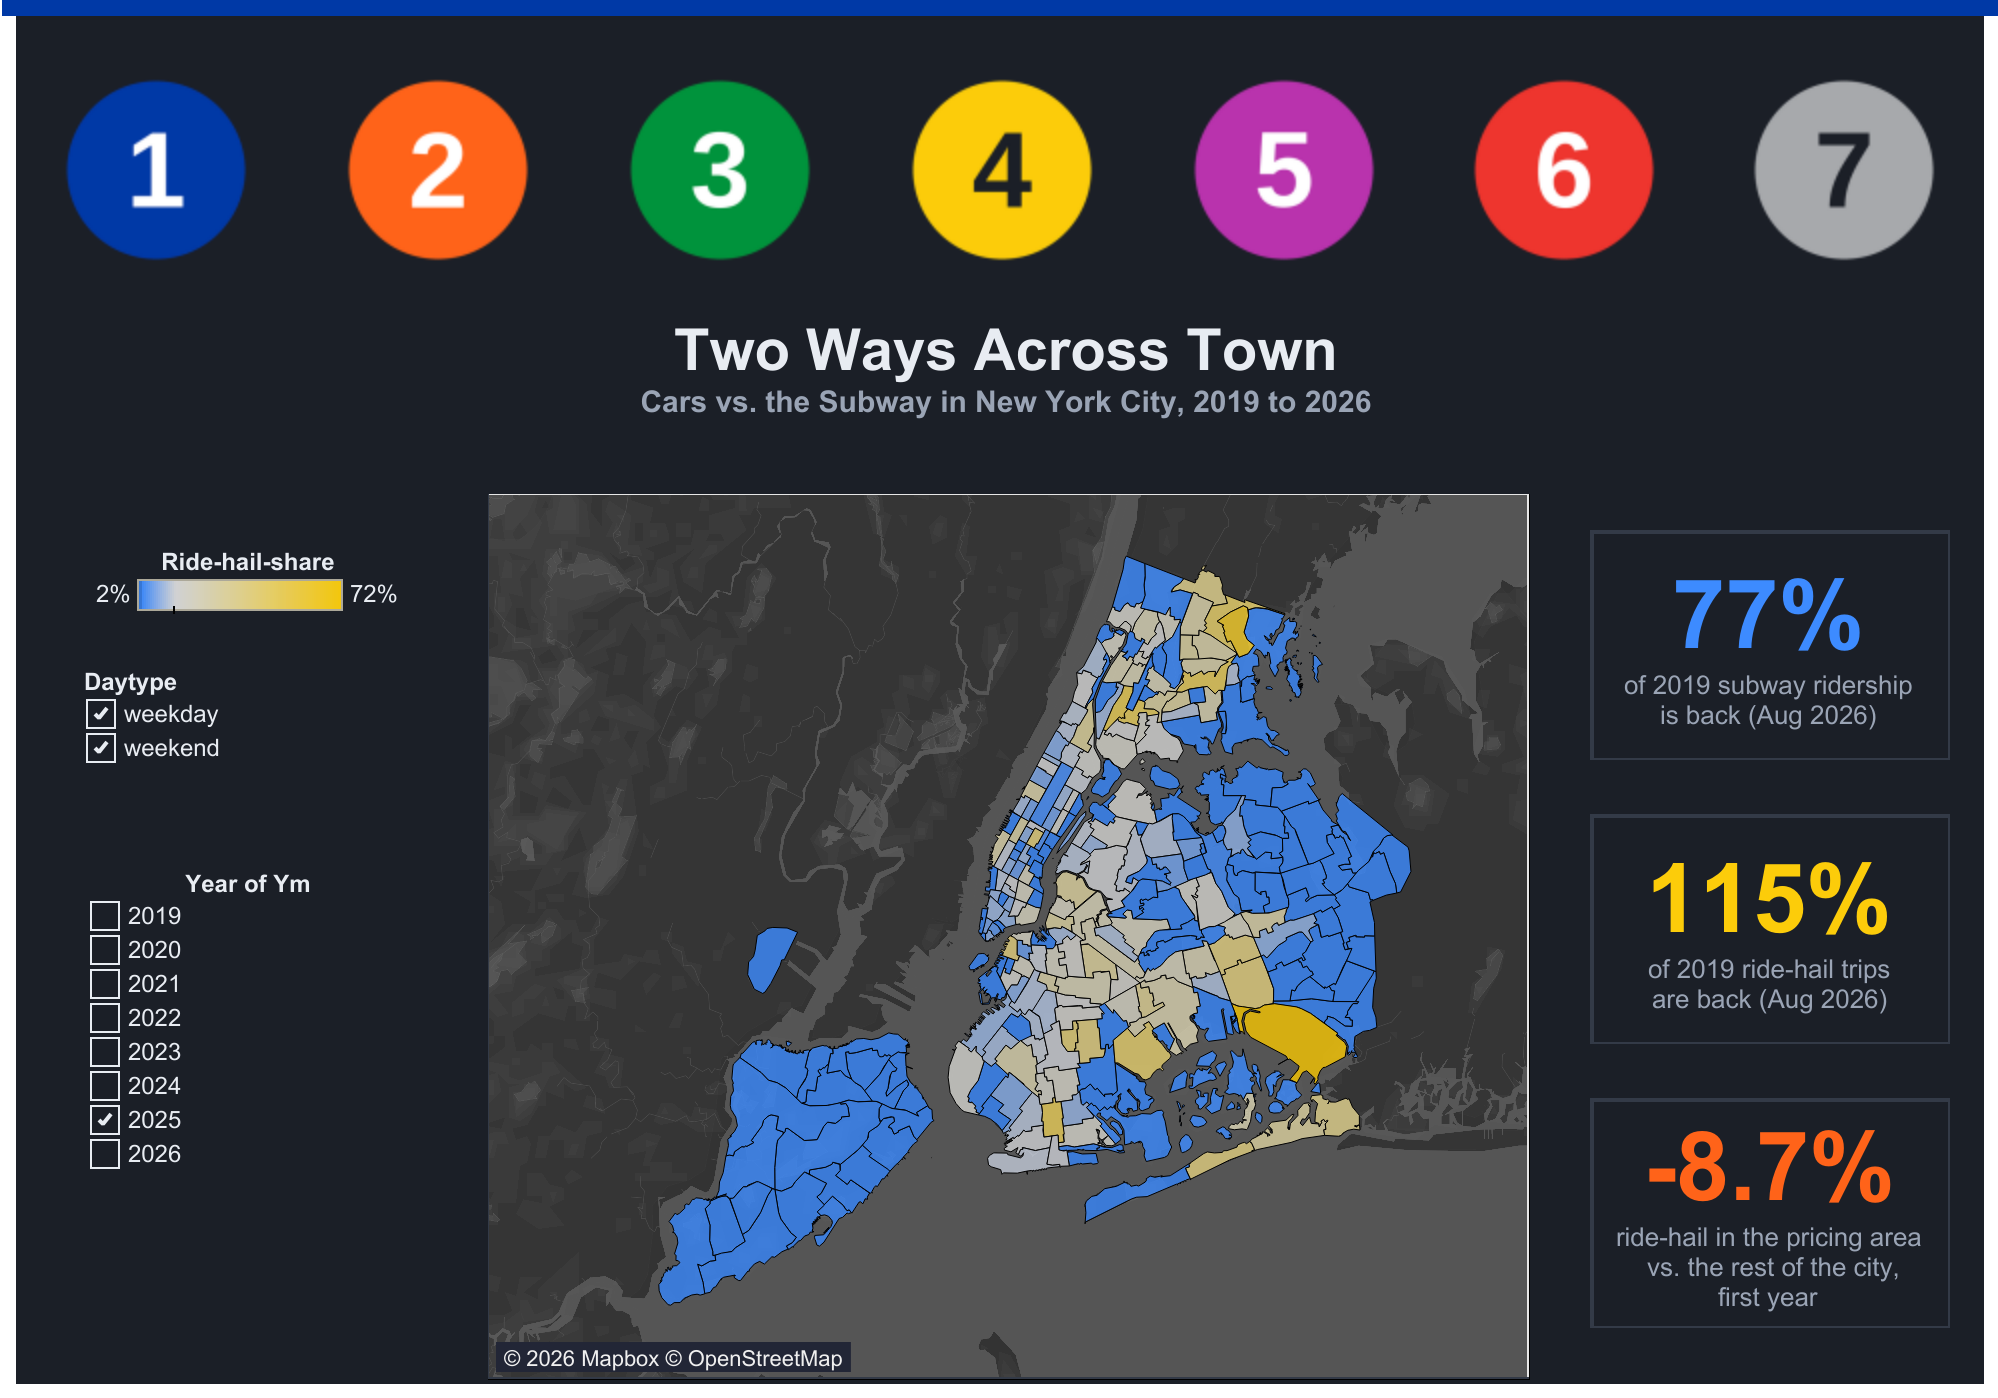

The dashboard page shown, as its layout file describes it:
{"tool":"tableau","page":{"name":"Grand Central","canvas":[1000,700],"ordinal":1},"visuals":[{"type":"blank","box":[1,0,1000,8]},{"type":"blank","box":[8,8,984,27]},{"type":"dashboard-object","box":[8,35,141,100]},{"type":"dashboard-object","box":[149,35,141,100]},{"type":"dashboard-object","box":[290,35,141,100]},{"type":"dashboard-object","box":[431,35,141,100]},{"type":"dashboard-object","box":[572,35,140,100]},{"type":"dashboard-object","box":[712,35,140,100]},{"type":"dashboard-object","box":[852,35,140,100]},{"type":"blank","box":[8,135,984,509]},{"type":"text","box":[268,155,470,58]},{"type":"worksheet","title":"Zone Map","mark":"Automatic","box":[243,246,523,445]},{"type":"worksheet","title":"KPI Subway","mark":"Automatic","box":[795,265,180,115]},{"type":"legend","title":"Zone Map","param":"[federated.0ei5txx1uu4fm312pfbhm01443hc].[usr:Calculation_2127957330862080:qk]","box":[44,270,160,67]},{"type":"filter","title":"Zone Map","param":"[federated.0ei5txx1uu4fm312pfbhm01443hc].[none:daytype:nk]","box":[42,333,160,72]},{"type":"worksheet","title":"KPI Ride-hail","mark":"Automatic","box":[795,407,180,115]},{"type":"filter","title":"Zone Map","param":"[federated.0ei5txx1uu4fm312pfbhm01443hc].[yr:ym:ok]","box":[44,434,160,183]},{"type":"worksheet","title":"KPI Pricing","mark":"Automatic","box":[795,549,180,115]}]}

Visuals, with their boxes in screenshot pixels (x1, y1, x2, y2), scaled from the page's 1000x700 canvas onto the 1998x1398 screenshot:
blank: pyautogui.locateOnScreen(2, 0, 1997, 16)
blank: pyautogui.locateOnScreen(16, 16, 1982, 70)
dashboard-object: pyautogui.locateOnScreen(16, 70, 298, 270)
dashboard-object: pyautogui.locateOnScreen(298, 70, 579, 270)
dashboard-object: pyautogui.locateOnScreen(579, 70, 861, 270)
dashboard-object: pyautogui.locateOnScreen(861, 70, 1143, 270)
dashboard-object: pyautogui.locateOnScreen(1143, 70, 1423, 270)
dashboard-object: pyautogui.locateOnScreen(1423, 70, 1702, 270)
dashboard-object: pyautogui.locateOnScreen(1702, 70, 1982, 270)
blank: pyautogui.locateOnScreen(16, 270, 1982, 1286)
text: pyautogui.locateOnScreen(535, 310, 1475, 425)
"Zone Map" worksheet: pyautogui.locateOnScreen(486, 491, 1530, 1380)
"KPI Subway" worksheet: pyautogui.locateOnScreen(1588, 529, 1948, 759)
"Zone Map" legend: pyautogui.locateOnScreen(88, 539, 408, 673)
"Zone Map" filter: pyautogui.locateOnScreen(84, 665, 404, 809)
"KPI Ride-hail" worksheet: pyautogui.locateOnScreen(1588, 813, 1948, 1043)
"Zone Map" filter: pyautogui.locateOnScreen(88, 867, 408, 1232)
"KPI Pricing" worksheet: pyautogui.locateOnScreen(1588, 1096, 1948, 1326)
